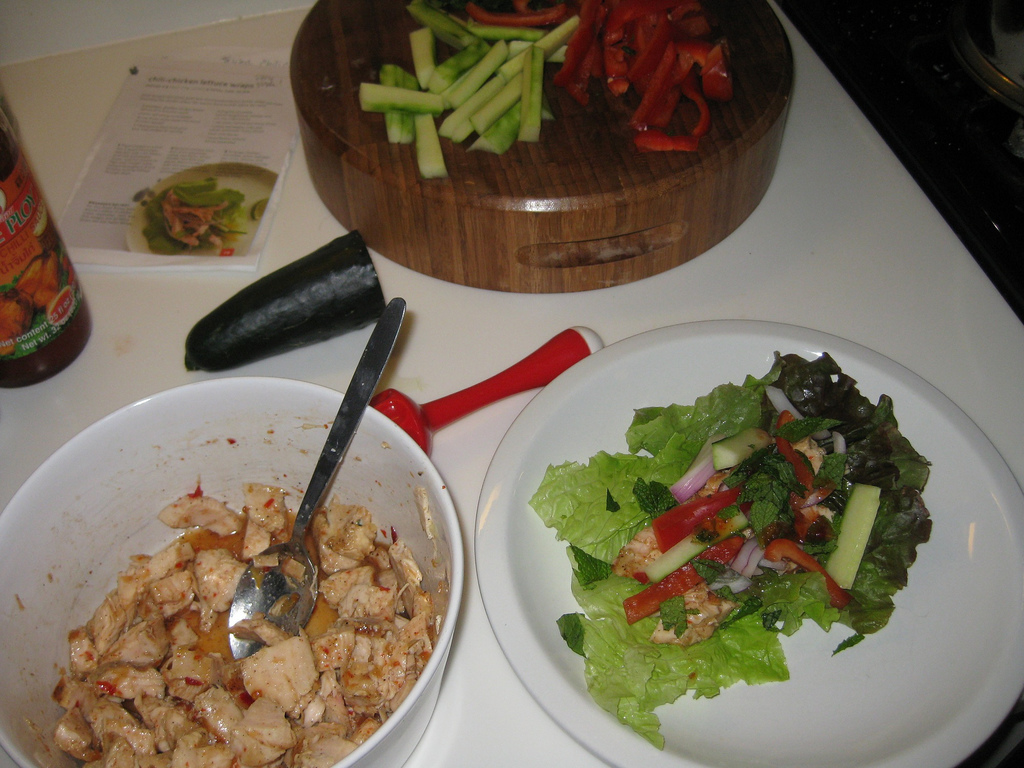chopped lettuce: (563, 448, 670, 550)
